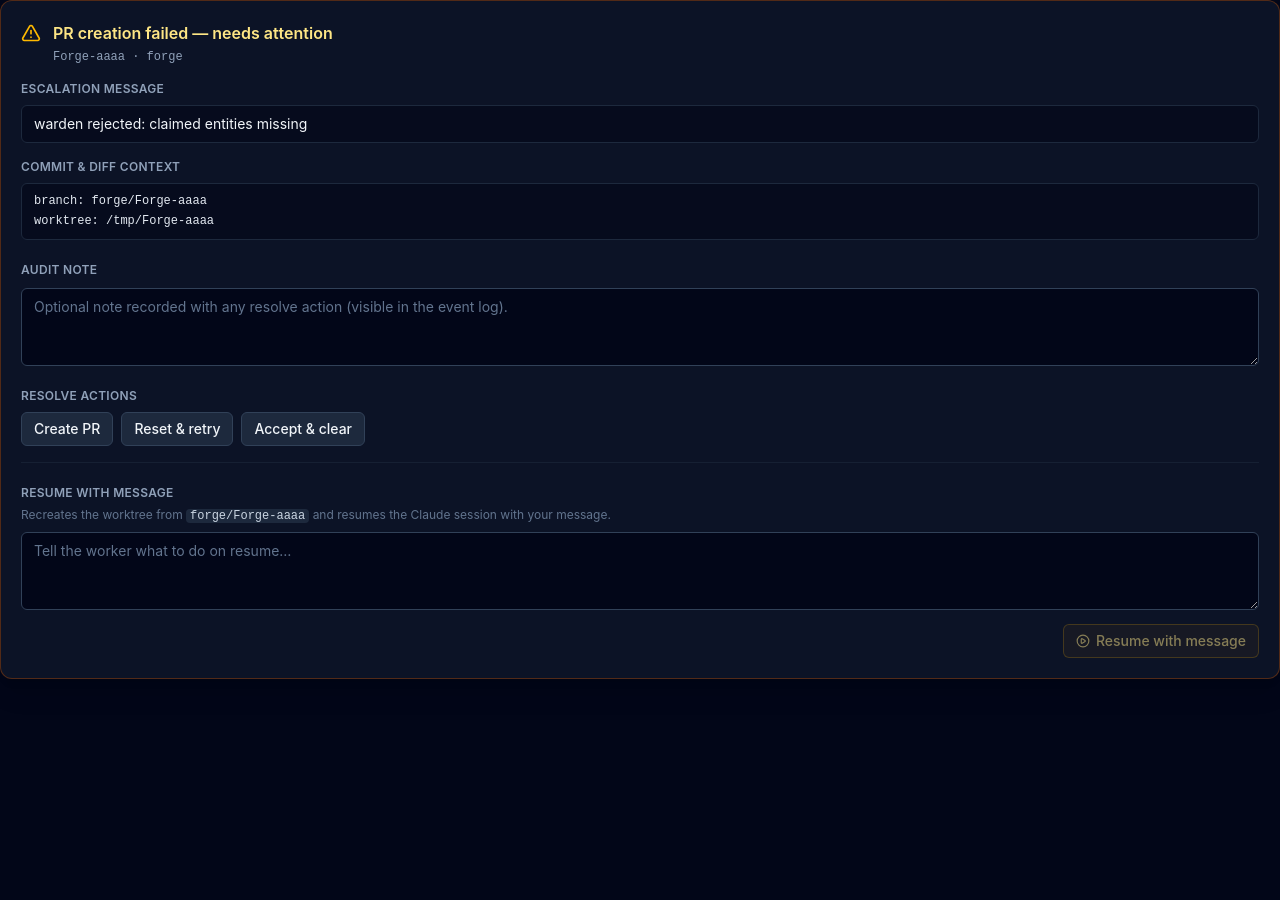
Test: ResolveNeedsAttentionPanel — pr_create_failed › surfaces the gh error inline when PR creation fails
The image size is (1280, 900).
Click the button "Create PR". click: click(67, 429)
box: [21,412,113,446]
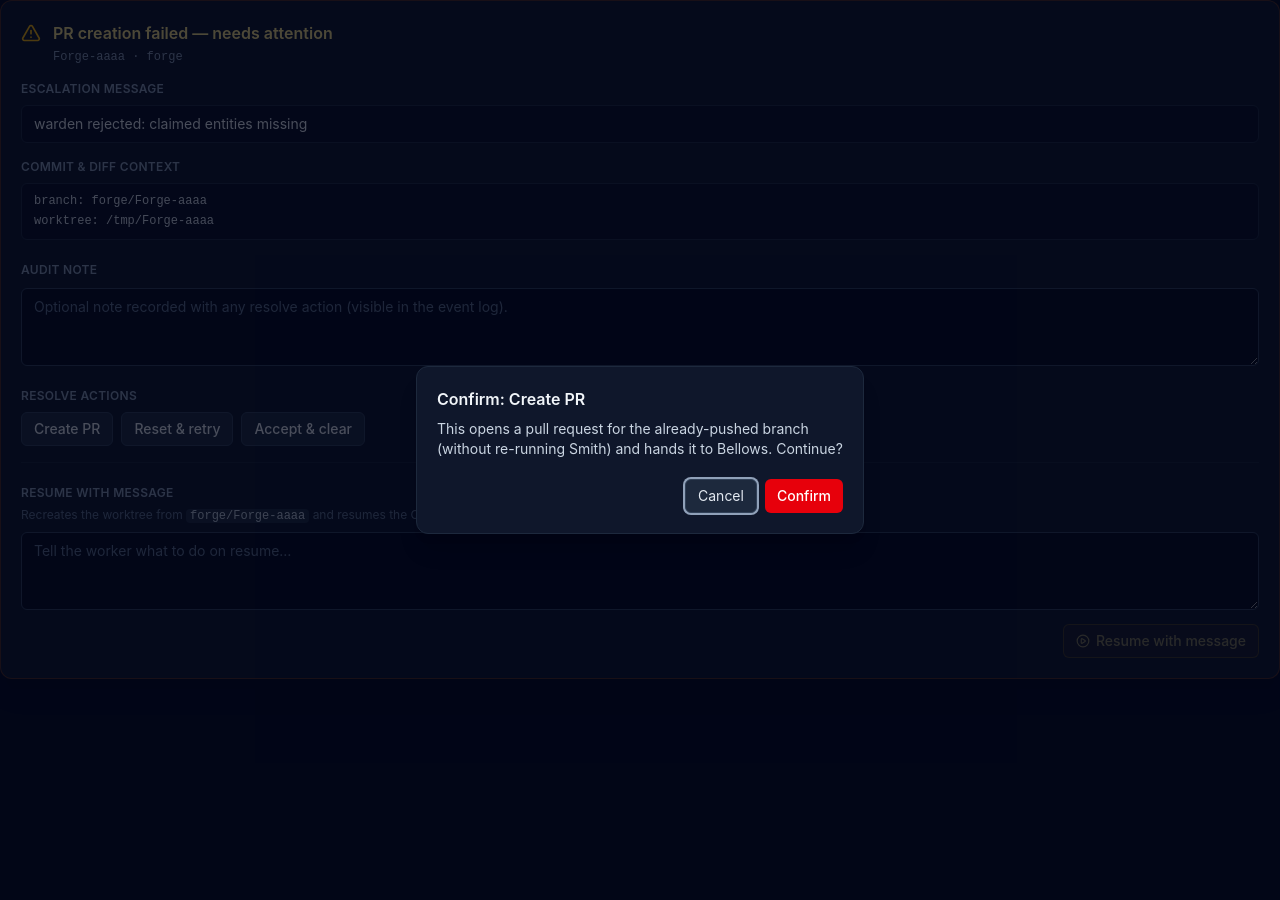
Click the button "Confirm". click: click(804, 496)
box: [765,479,843,513]
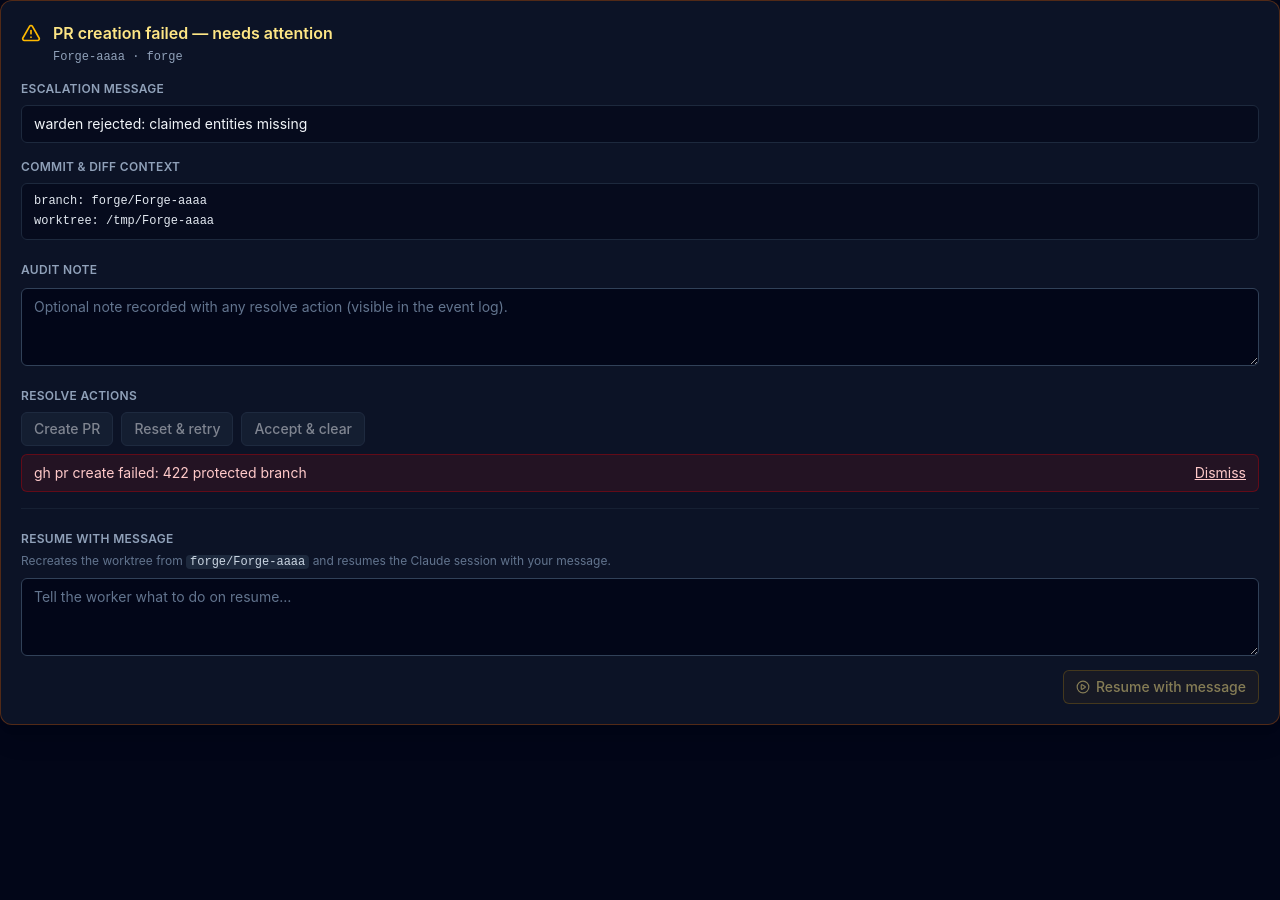
Expected: the text "gh pr create failed: 422 protected branch" is shown, [34,464,307,481]
